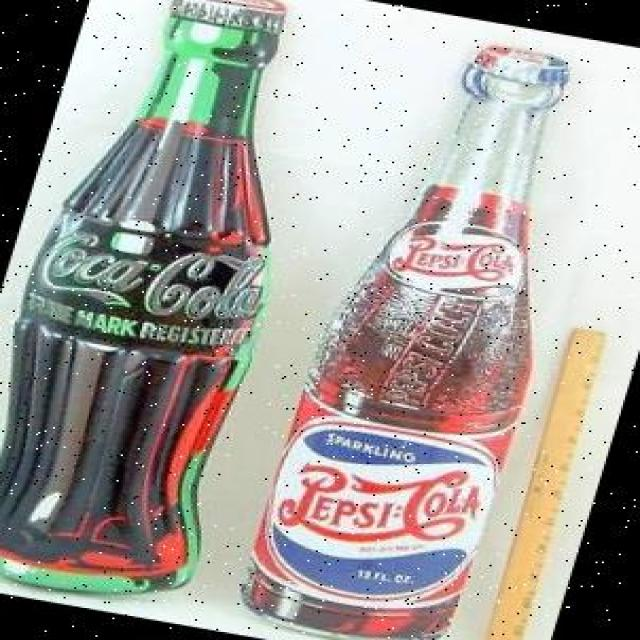coca-cola: (0, 0, 379, 621)
